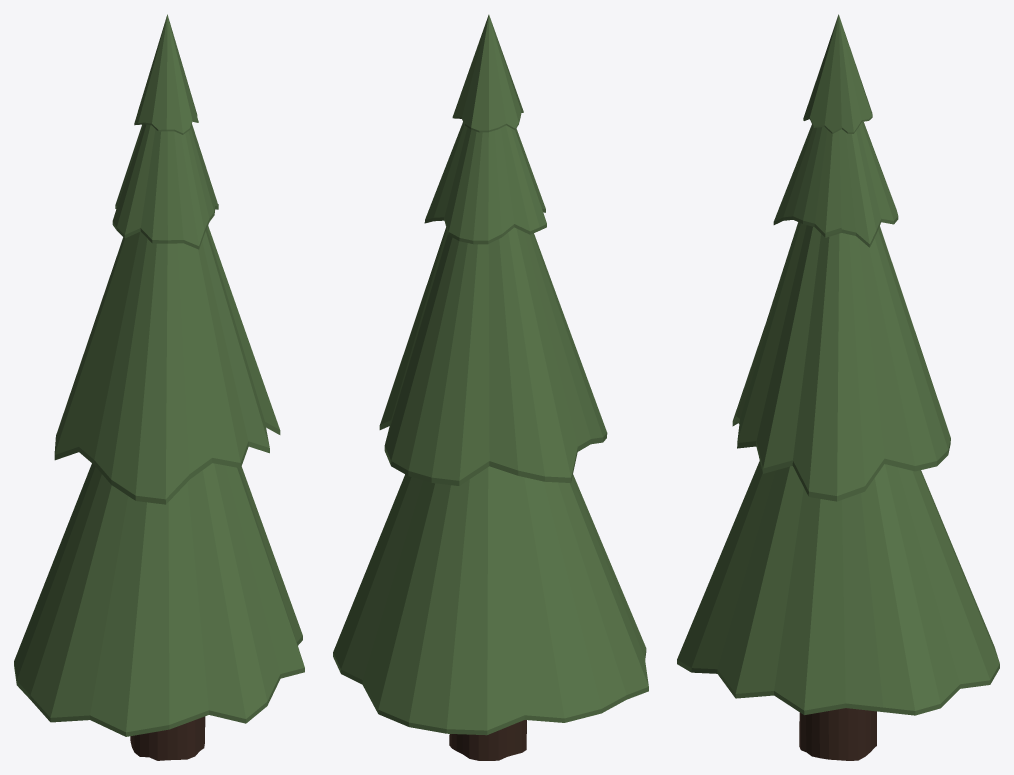
File: tree_plain.glb
The picture shows the model from 3 angles, left to right: view 1: azimuth 30°, elevation 25°; view 2: azimuth 150°, elevation 25°; view 3: azimuth 270°, elevation 25°; orthographic projection.
Visible parts, largest first — view 1: Cylinder; view 2: Cylinder; view 3: Cylinder.
Part boxes in pixels (x1,y1,x2,y2): Cylinder: (14, 14, 304, 760); Cylinder: (333, 14, 648, 760); Cylinder: (677, 14, 999, 760).
Bounding box in the file's own units: 1.48 × 4.03 × 1.61.
